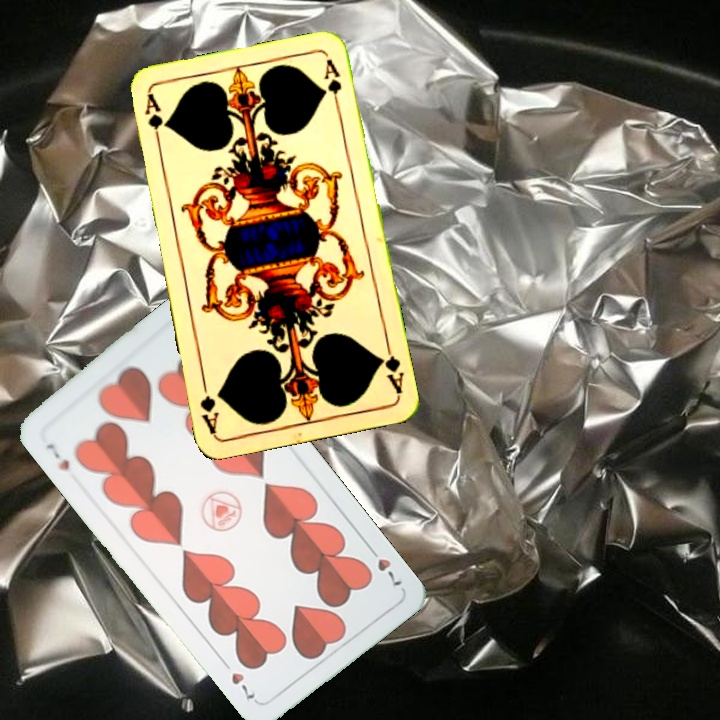GA: (375, 338, 406, 397), (141, 90, 166, 149)
H7: (363, 541, 405, 589), (42, 439, 73, 473)
